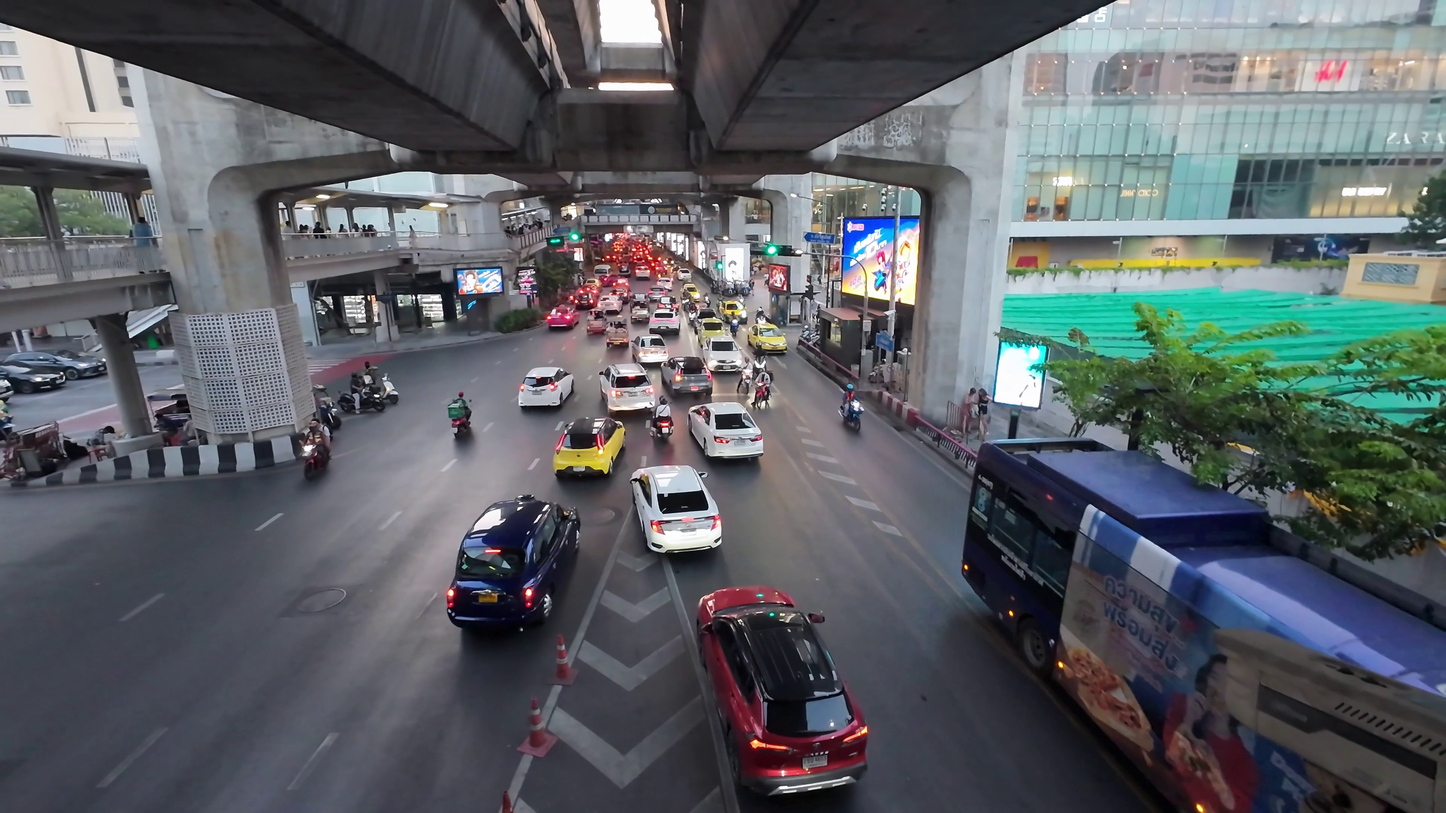license_plate: (1078, 661, 1322, 781), (738, 716, 826, 784), (478, 575, 547, 619), (653, 519, 700, 548), (572, 452, 609, 473), (707, 438, 745, 457), (615, 396, 648, 413), (531, 393, 560, 408), (678, 382, 702, 396), (305, 461, 323, 477), (552, 321, 569, 328)
motorcycle: (296, 417, 333, 481)
no_seatbelt: (1029, 491, 1371, 679), (720, 620, 843, 726), (465, 514, 560, 582), (644, 477, 709, 523), (564, 424, 617, 456), (699, 410, 753, 441), (608, 372, 654, 399), (525, 371, 566, 395), (674, 361, 707, 384), (548, 312, 573, 323)
